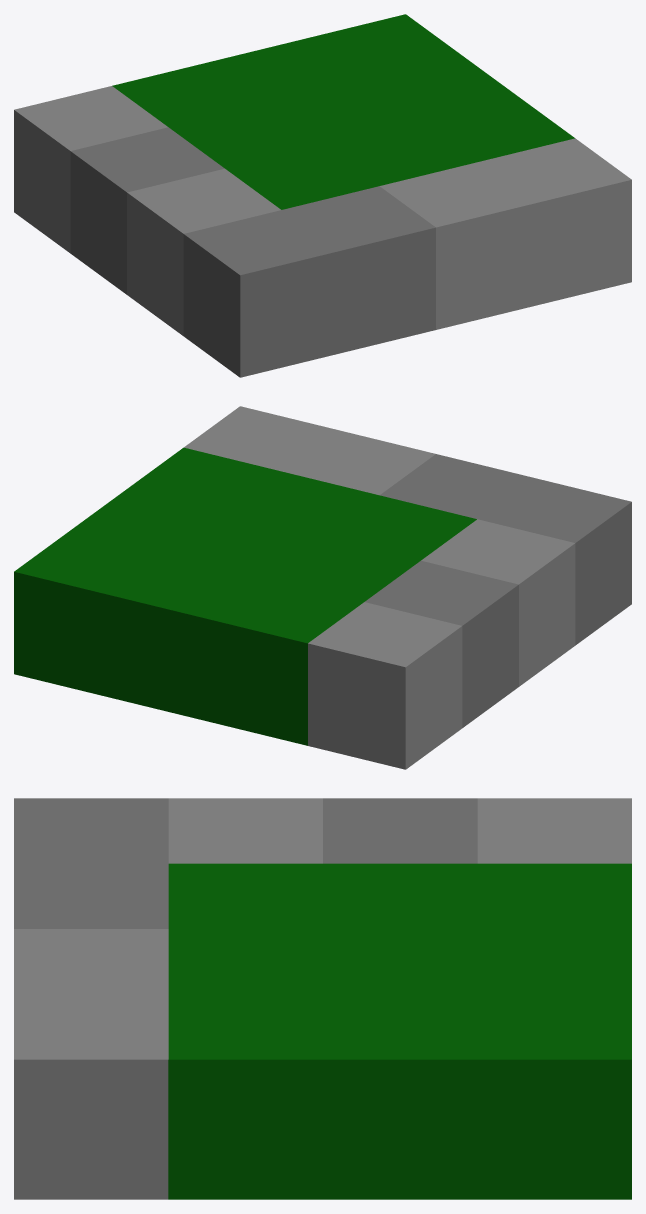
File: obj_curb7.obj
3 views of the same model, one above another, from view 1: azimuth 30°, elevation 25°; view 2: azimuth 150°, elevation 25°; view 3: azimuth 270°, elevation 25° (orthographic). The views are drawn at different scales.
Size of the model in its own units: 0.4 by 0.1 by 0.4.
1 material, 1 textured.
